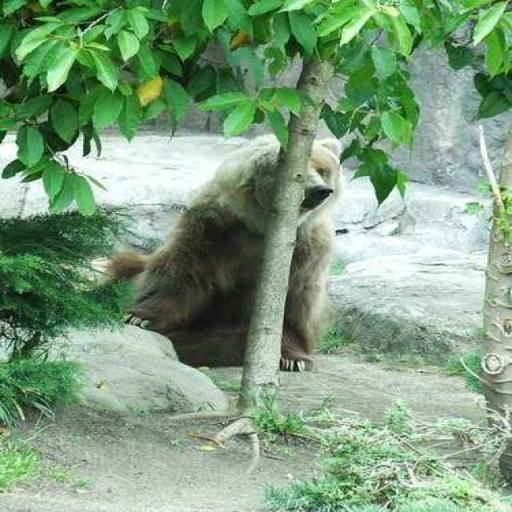Bear: (98, 133, 344, 372)
